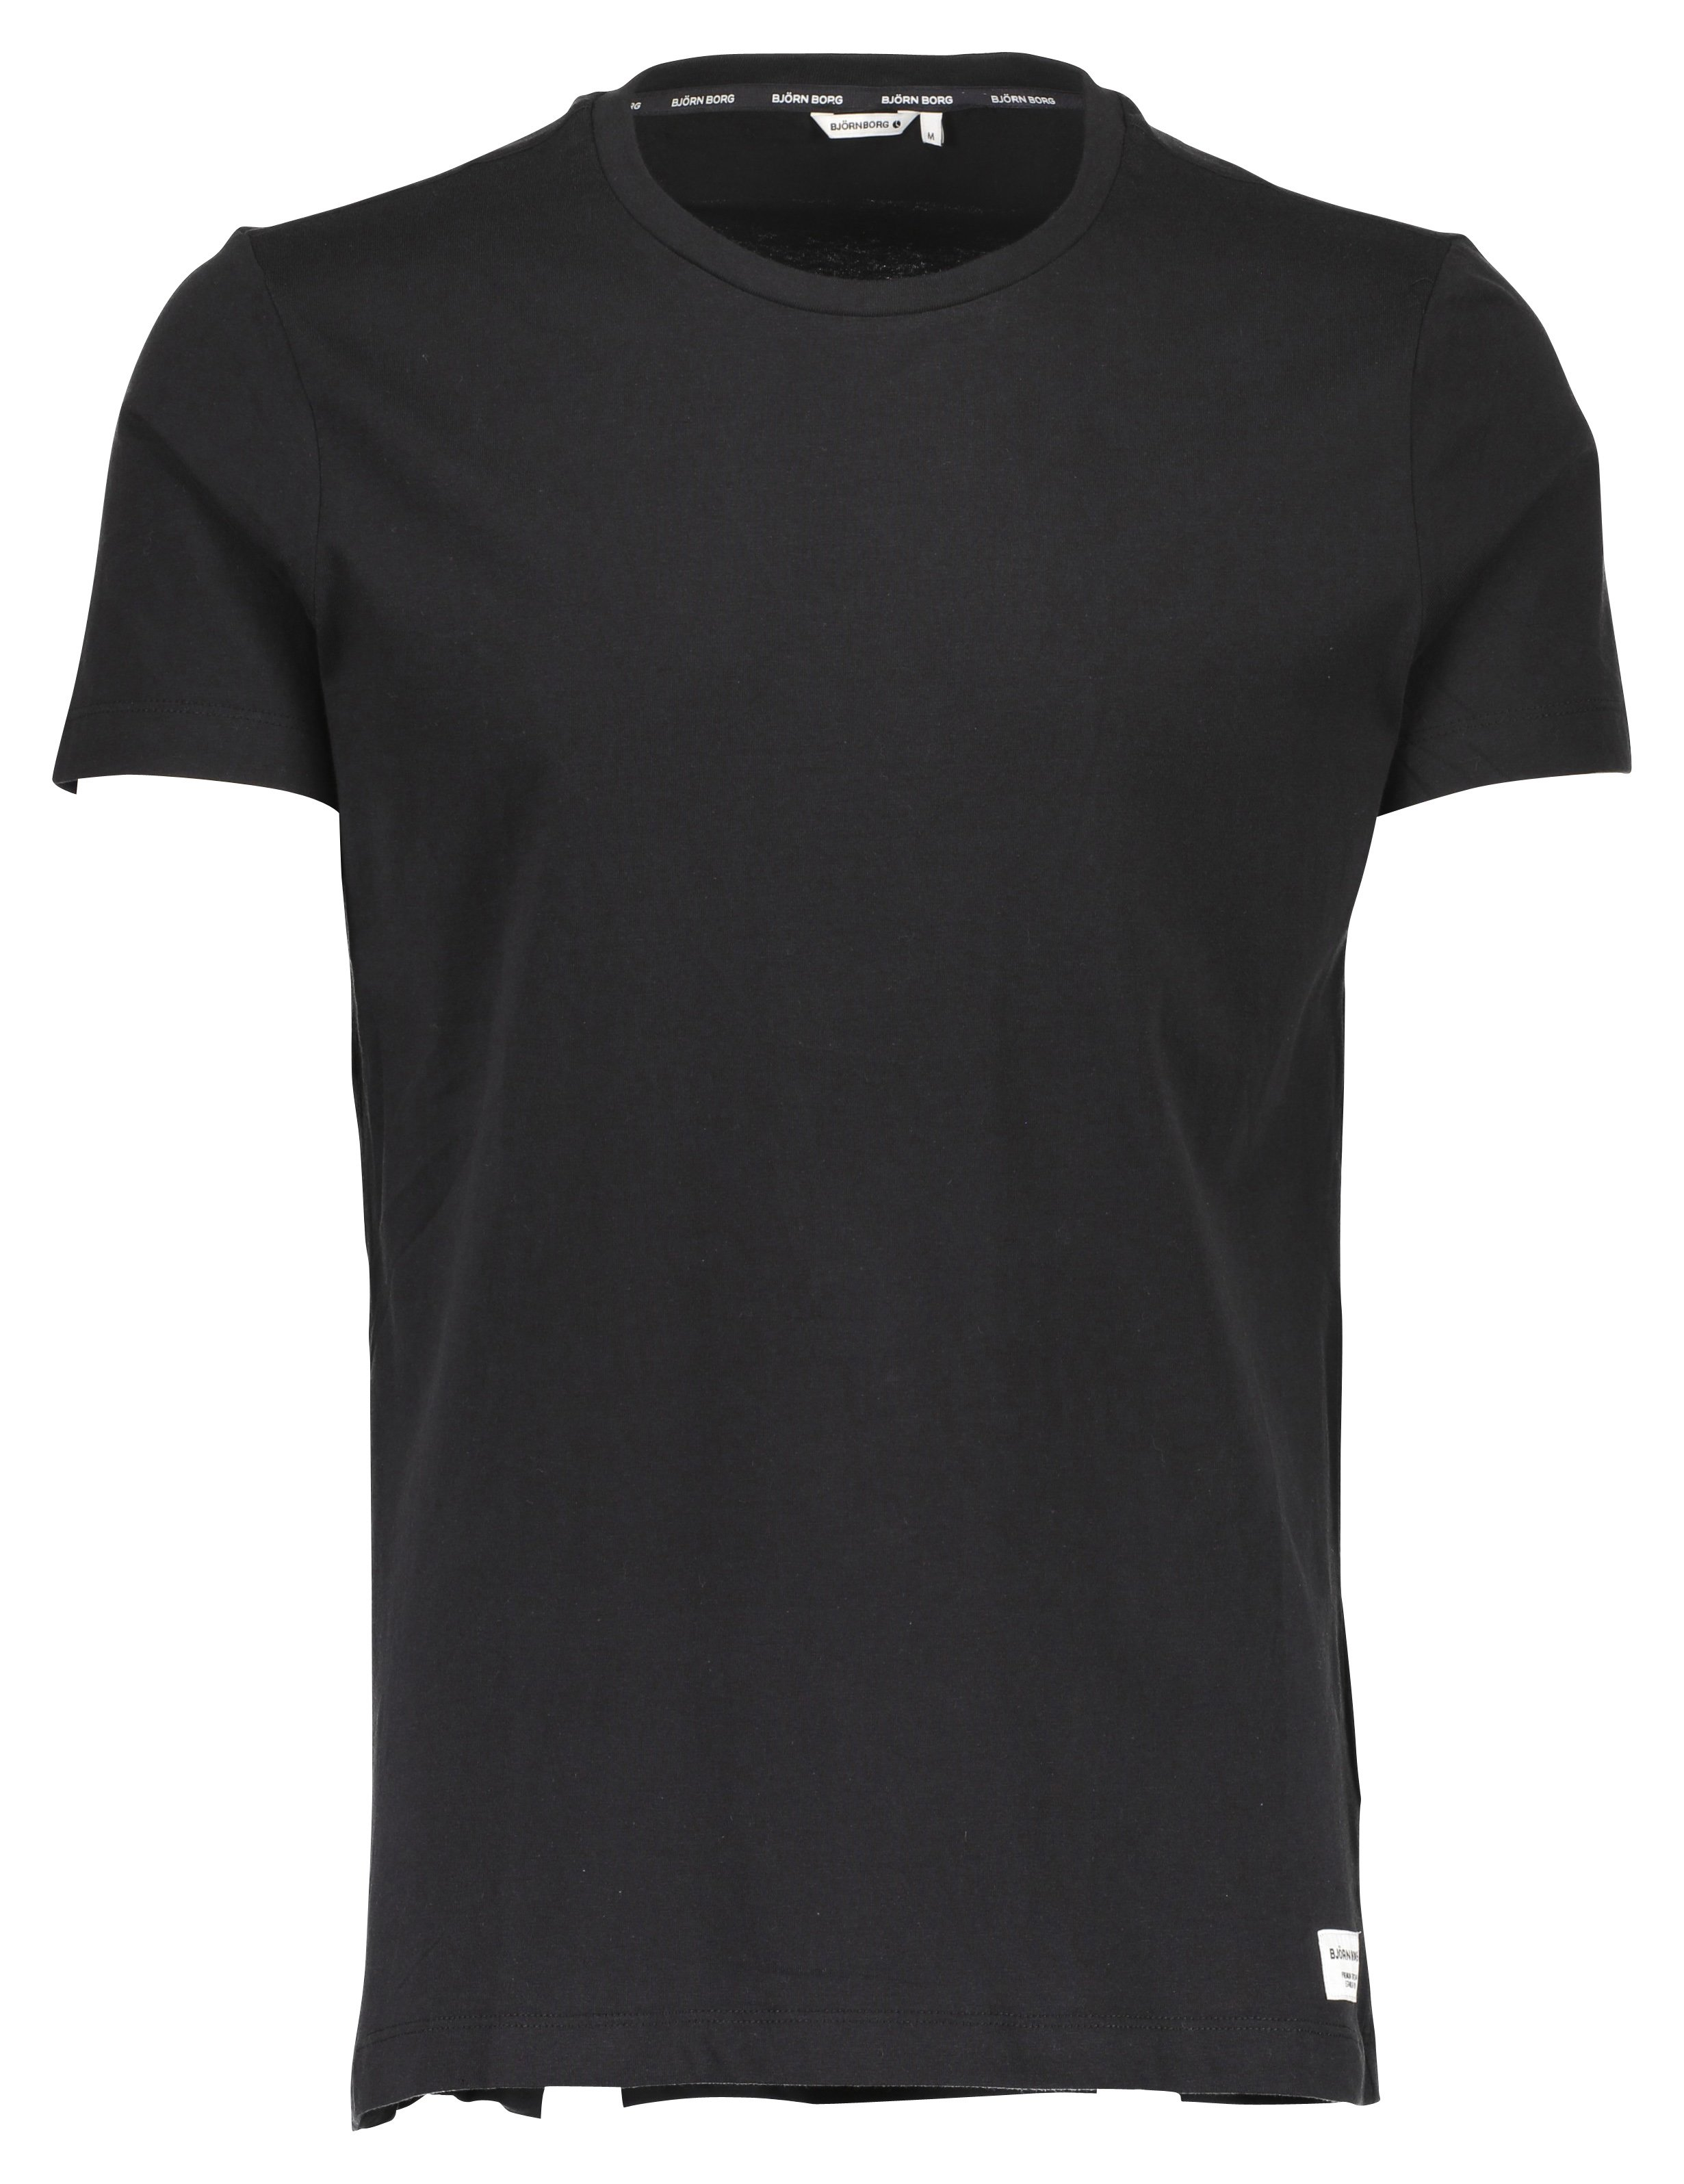T-Shirt: (44, 32, 1654, 2134)
